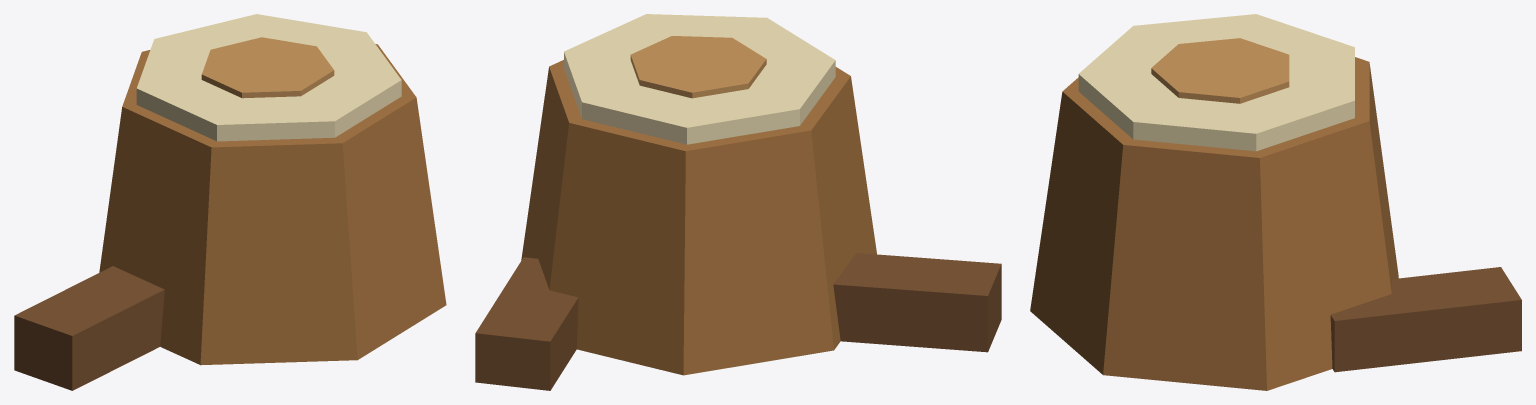
Rendered from toco.glb.
3 views of the same model, side by side, from view 1: azimuth 30°, elevation 25°; view 2: azimuth 150°, elevation 25°; view 3: azimuth 270°, elevation 25° (orthographic). The views are drawn at different scales.
Visible parts, largest first — view 1: corpo; view 2: corpo; view 3: corpo.
Part boxes in pixels (bbox=[...]): corpo: bbox=[14, 14, 446, 390]; corpo: bbox=[475, 14, 1001, 390]; corpo: bbox=[1030, 14, 1521, 390].
Size of the model in its own units: 0.3213 by 0.166 by 0.3044.
